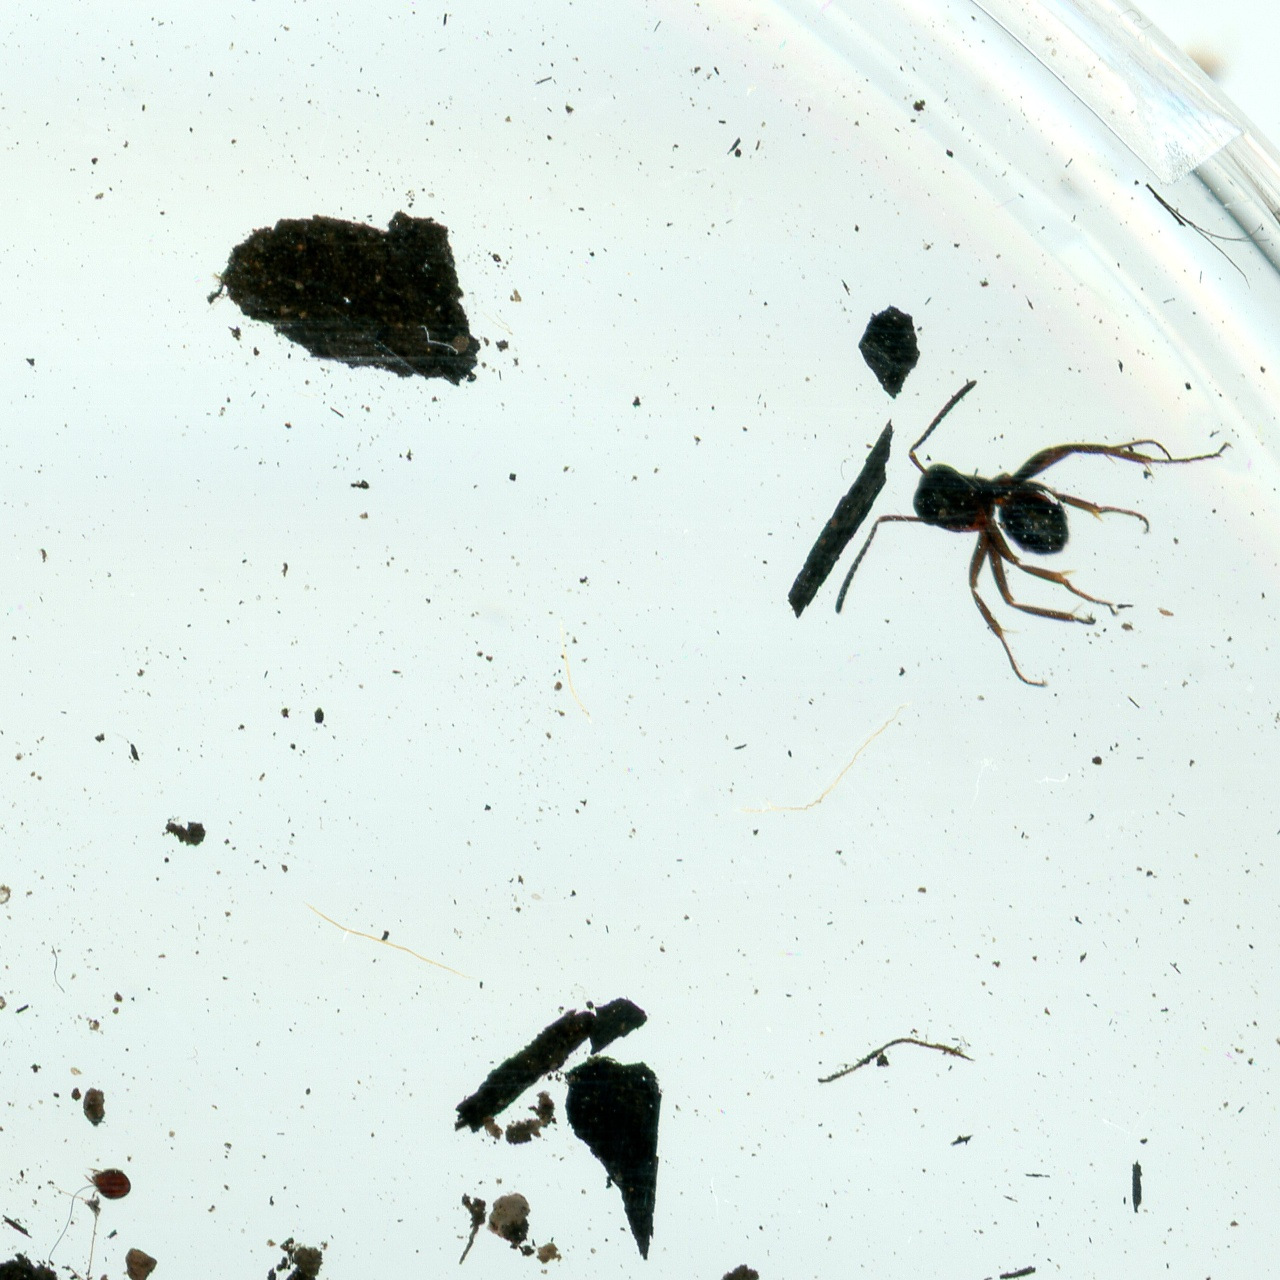arthropod: (823, 366, 1248, 709), (75, 1163, 133, 1204)
